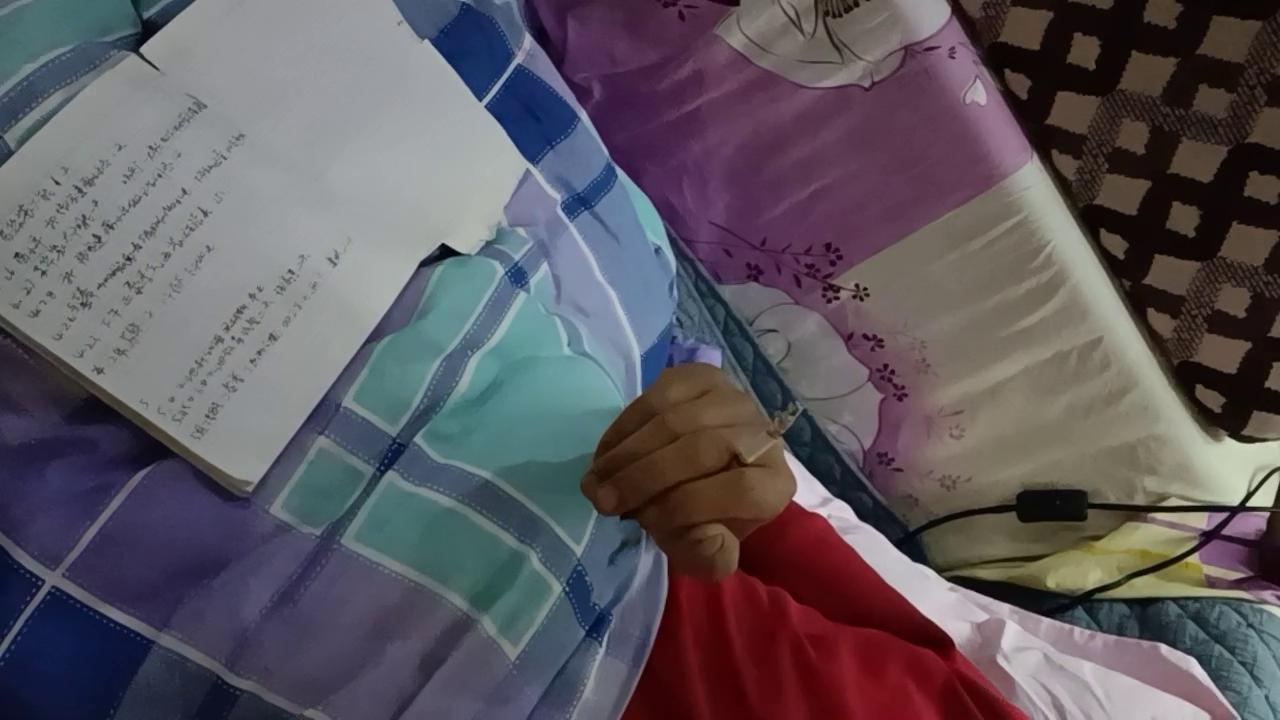smoke: (715, 399, 805, 485)
